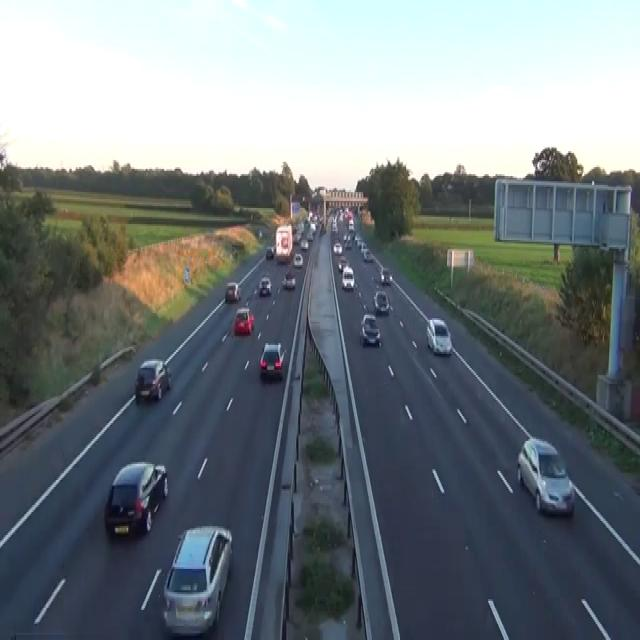Car: (162, 524, 232, 634), (104, 460, 168, 537), (516, 436, 575, 518), (134, 359, 171, 402), (426, 316, 452, 356), (259, 341, 286, 379), (359, 313, 381, 347), (233, 306, 254, 334), (10, 631, 69, 638), (373, 290, 389, 313), (225, 281, 241, 302), (341, 266, 354, 290), (281, 270, 295, 290), (258, 276, 271, 295), (361, 313, 377, 327), (379, 266, 392, 282), (338, 256, 349, 272), (293, 252, 303, 266), (333, 240, 342, 254), (363, 249, 373, 261), (265, 245, 274, 258), (292, 231, 300, 244), (300, 238, 308, 249), (344, 238, 352, 249), (355, 233, 362, 245), (319, 224, 326, 235), (306, 229, 313, 240), (231, 247, 238, 258), (309, 222, 316, 233), (362, 244, 369, 254), (359, 242, 367, 250), (331, 222, 338, 231), (348, 218, 354, 228), (338, 261, 343, 272), (258, 230, 262, 238)
Truck: (275, 224, 292, 263)
